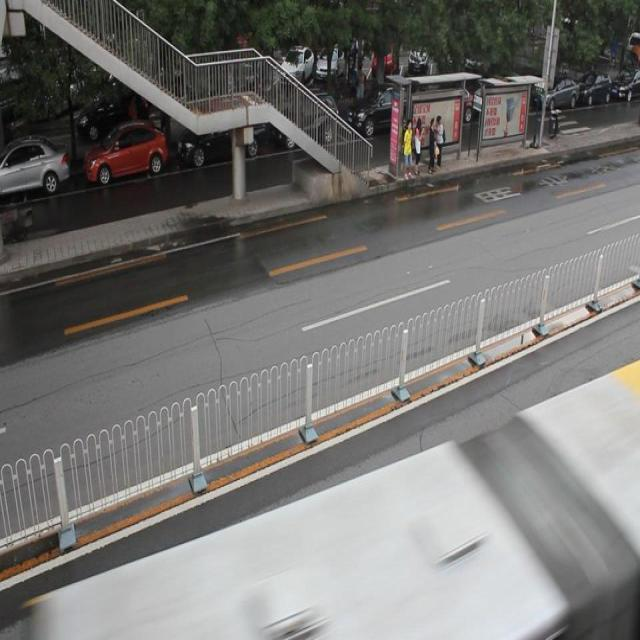car: (178, 94, 266, 163), (84, 122, 169, 180), (347, 80, 415, 140), (1, 138, 68, 196), (275, 93, 337, 148)
van: (63, 360, 640, 640)
